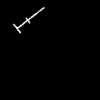double_crochet: (14, 8, 43, 32)
